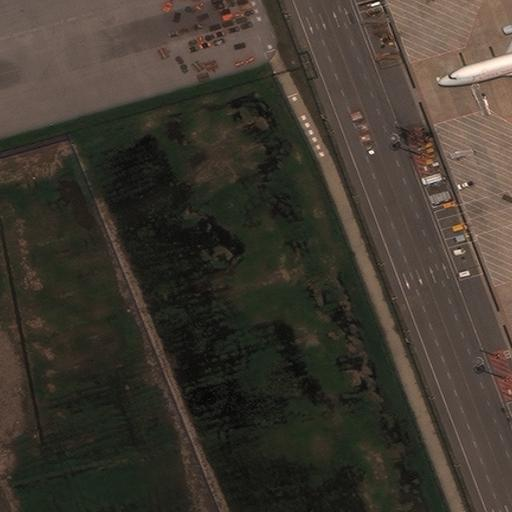Large Civil Transport: (439, 0, 512, 106)
